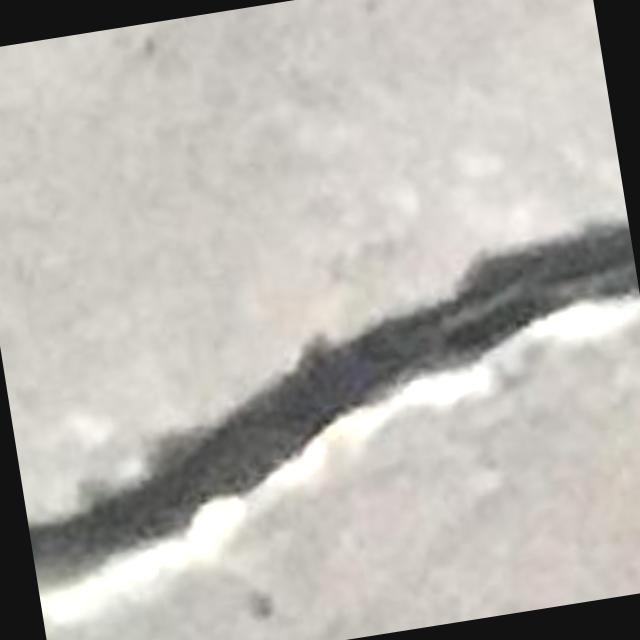crack: (28, 219, 639, 580)
